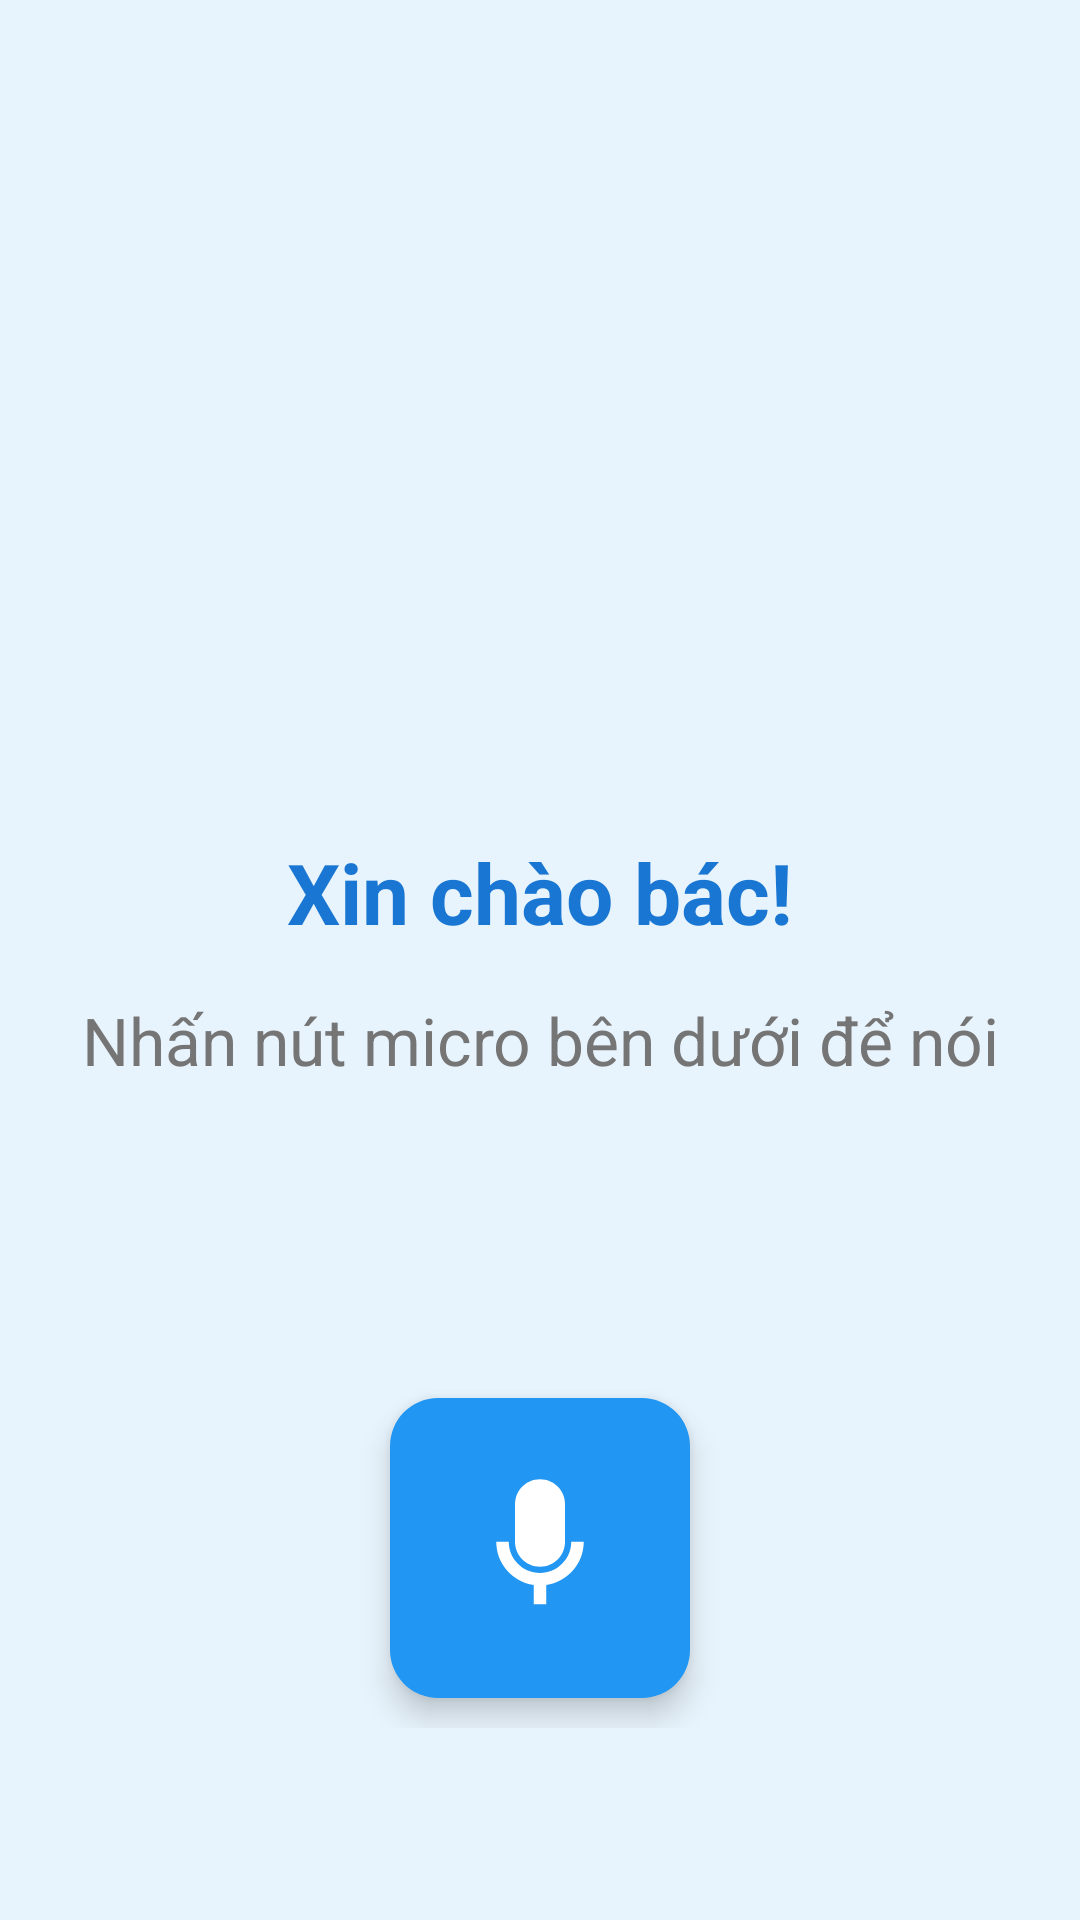

Screen size 1080×1920. Icon name, then its box in pixels as (x1, y1, x2, y2):
Nút ghi âm: (390, 1398, 690, 1698)
